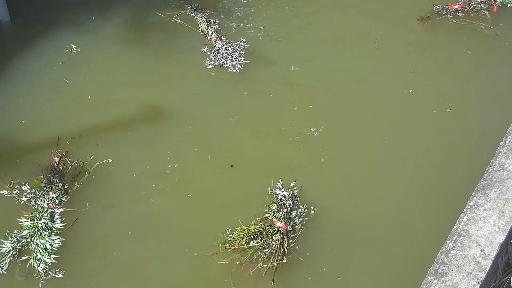twig: (0, 138, 122, 288), (191, 178, 346, 276), (162, 0, 261, 80), (418, 0, 512, 37)
